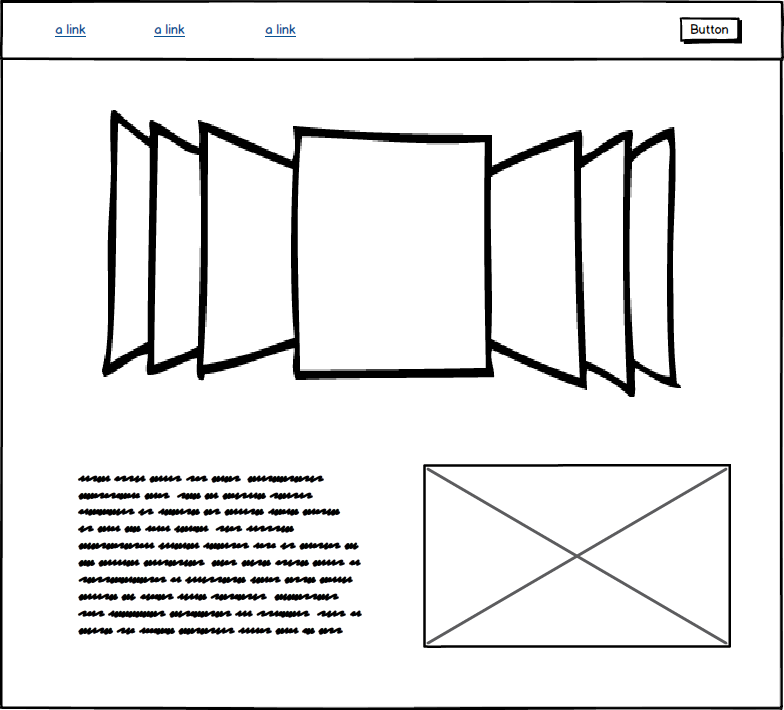button: (676, 13, 745, 48)
image: (419, 457, 736, 654)
navlink: (46, 16, 99, 45), (145, 16, 196, 46), (258, 14, 304, 45)
p: (67, 468, 376, 645)
slideshow: (93, 100, 688, 405)
